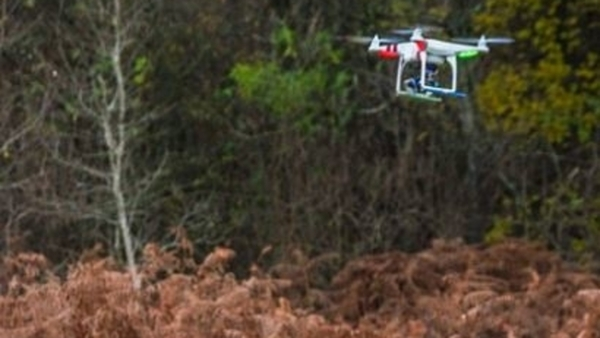drone: (335, 24, 517, 103)
